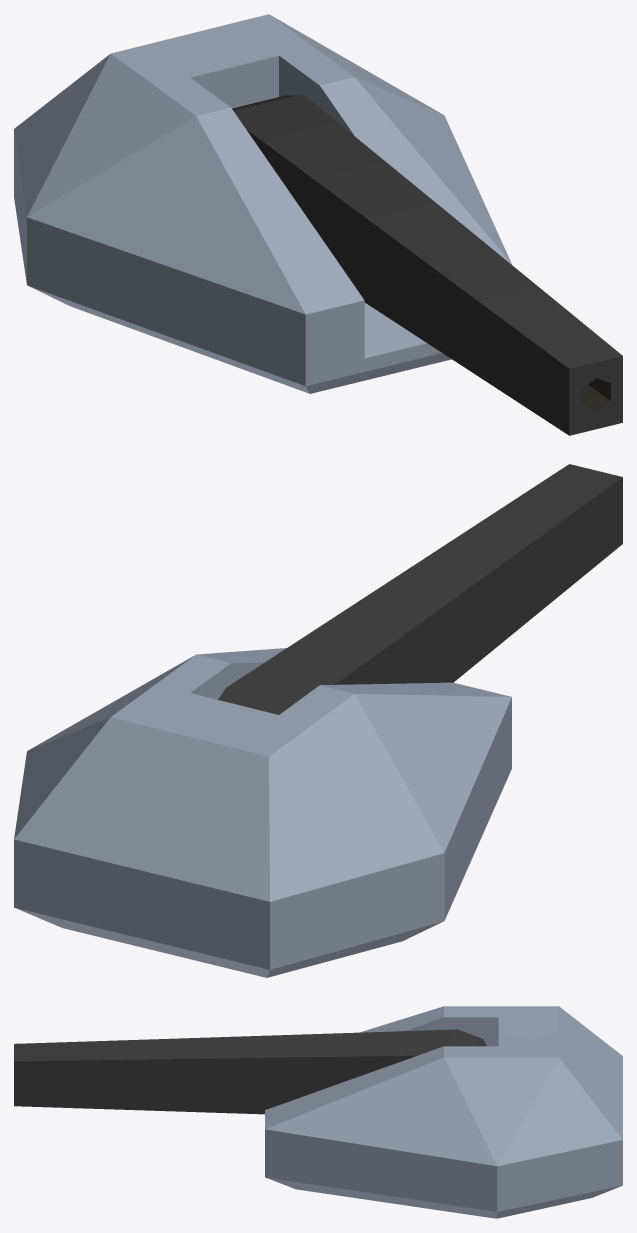
File: autocannon.glb
3 views of the same model, one above another, from view 1: azimuth 30°, elevation 25°; view 2: azimuth 150°, elevation 25°; view 3: azimuth 270°, elevation 25° (orthographic). The views are drawn at different scales.
Visible parts, largest first — view 1: 03_autocannon_turret, 03_autocannon_barrel; view 2: 03_autocannon_turret, 03_autocannon_barrel; view 3: 03_autocannon_turret, 03_autocannon_barrel.
Part boxes in pixels (x1=…): 03_autocannon_turret: x1=14, y1=14, x2=511, y2=393; 03_autocannon_barrel: x1=232, y1=95, x2=622, y2=435; 03_autocannon_turret: x1=14, y1=648, x2=511, y2=977; 03_autocannon_barrel: x1=218, y1=464, x2=622, y2=714; 03_autocannon_turret: x1=265, y1=1006, x2=622, y2=1218; 03_autocannon_barrel: x1=14, y1=1029, x2=486, y2=1114.
Size of the model in its own units: 0.4234 by 0.1921 by 0.7977.
